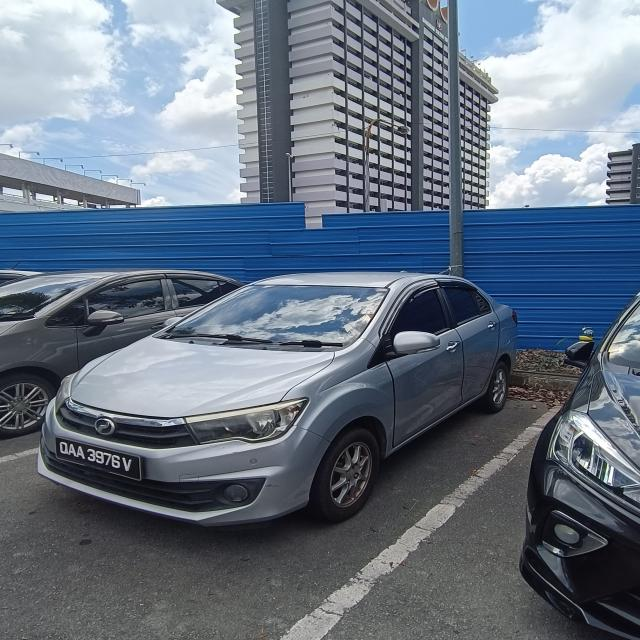PeroduaBezza: (35, 269, 519, 528)
